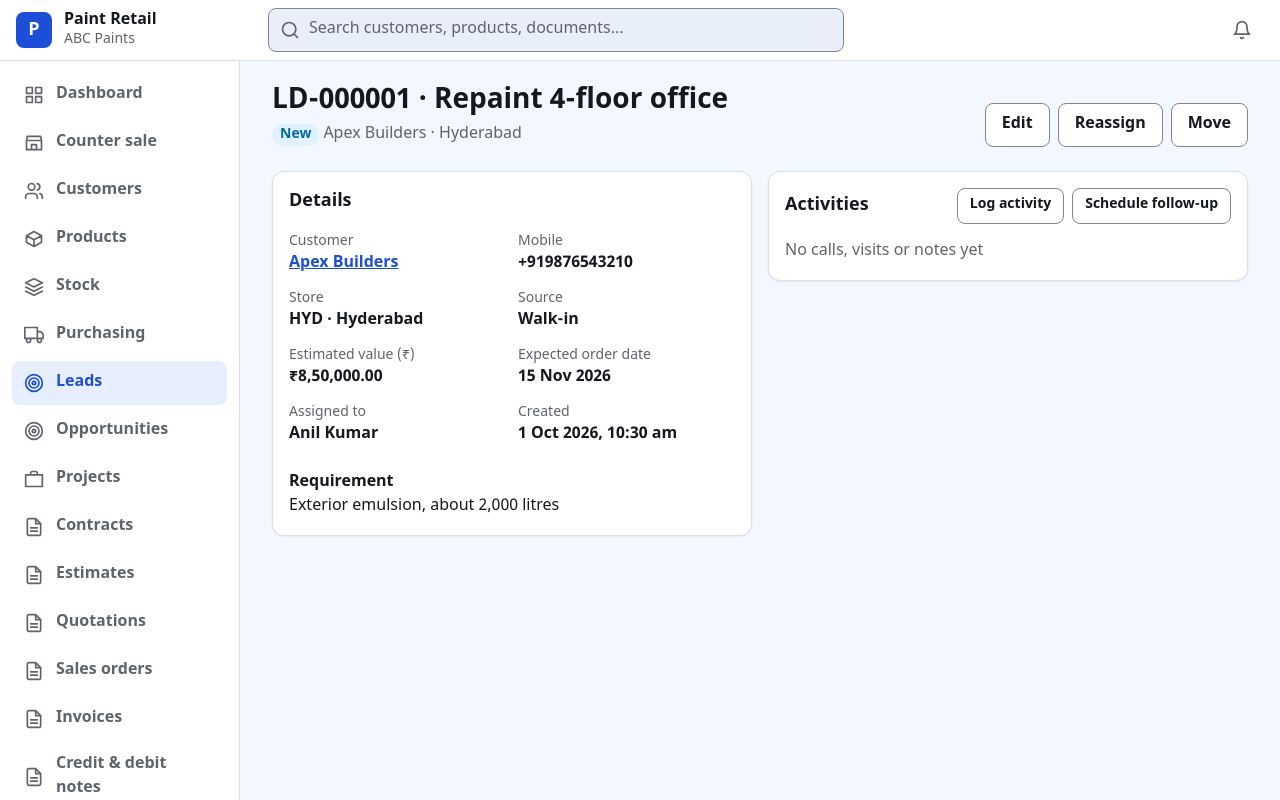
Test: LeadDetailPage › moves the lead from its page
Click the button with aria-label "Move LD-000001" at (1209, 125), box [1171,103,1248,147]
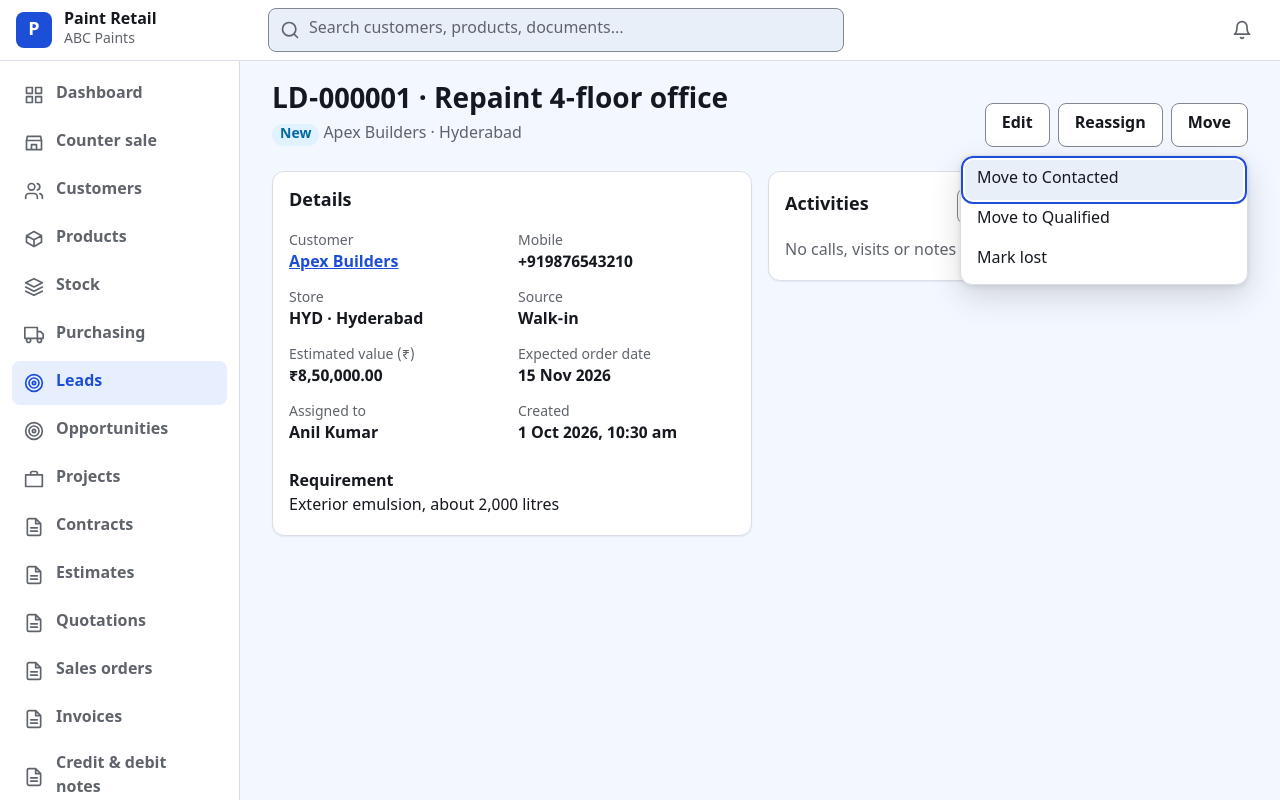
Click the button "Move to Qualified" at (1104, 220), box [965,200,1243,240]
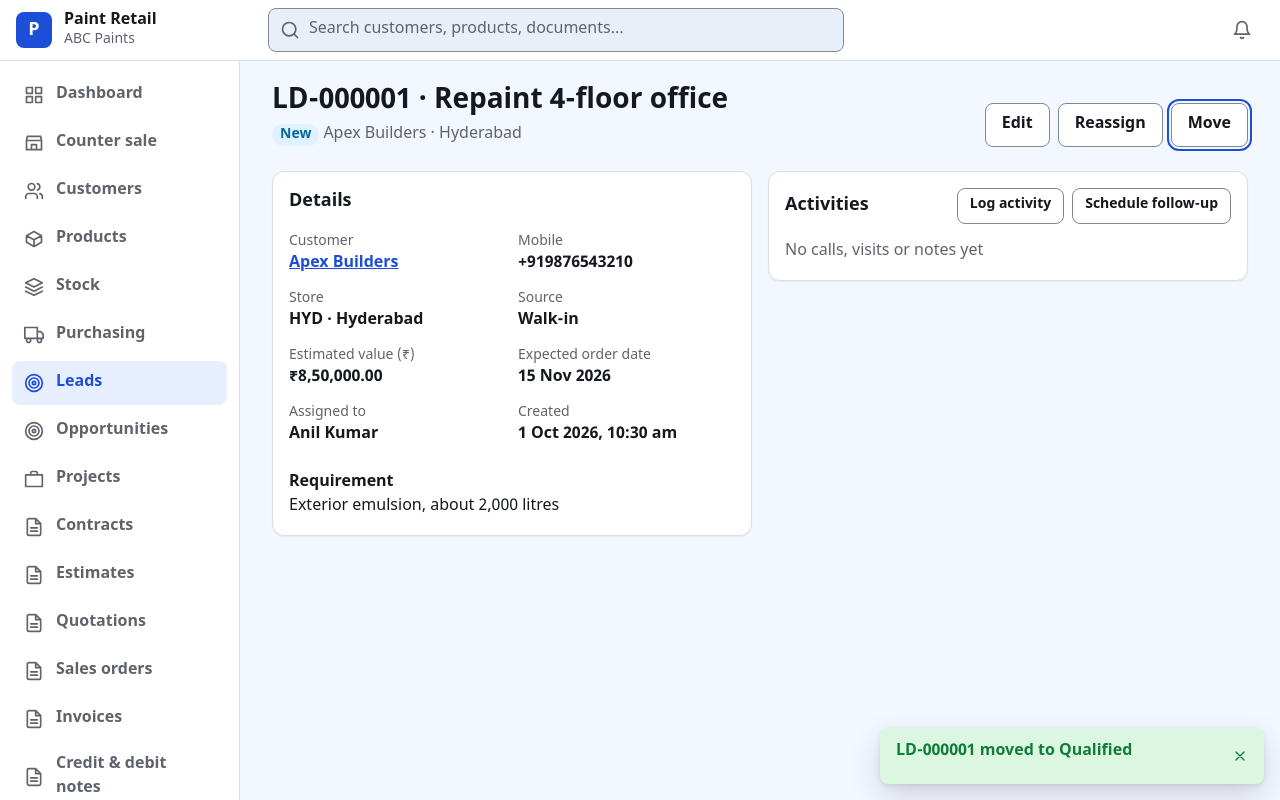
Now the text "LD-000001 moved to Qualified" is shown, box [896,741,1132,762]
